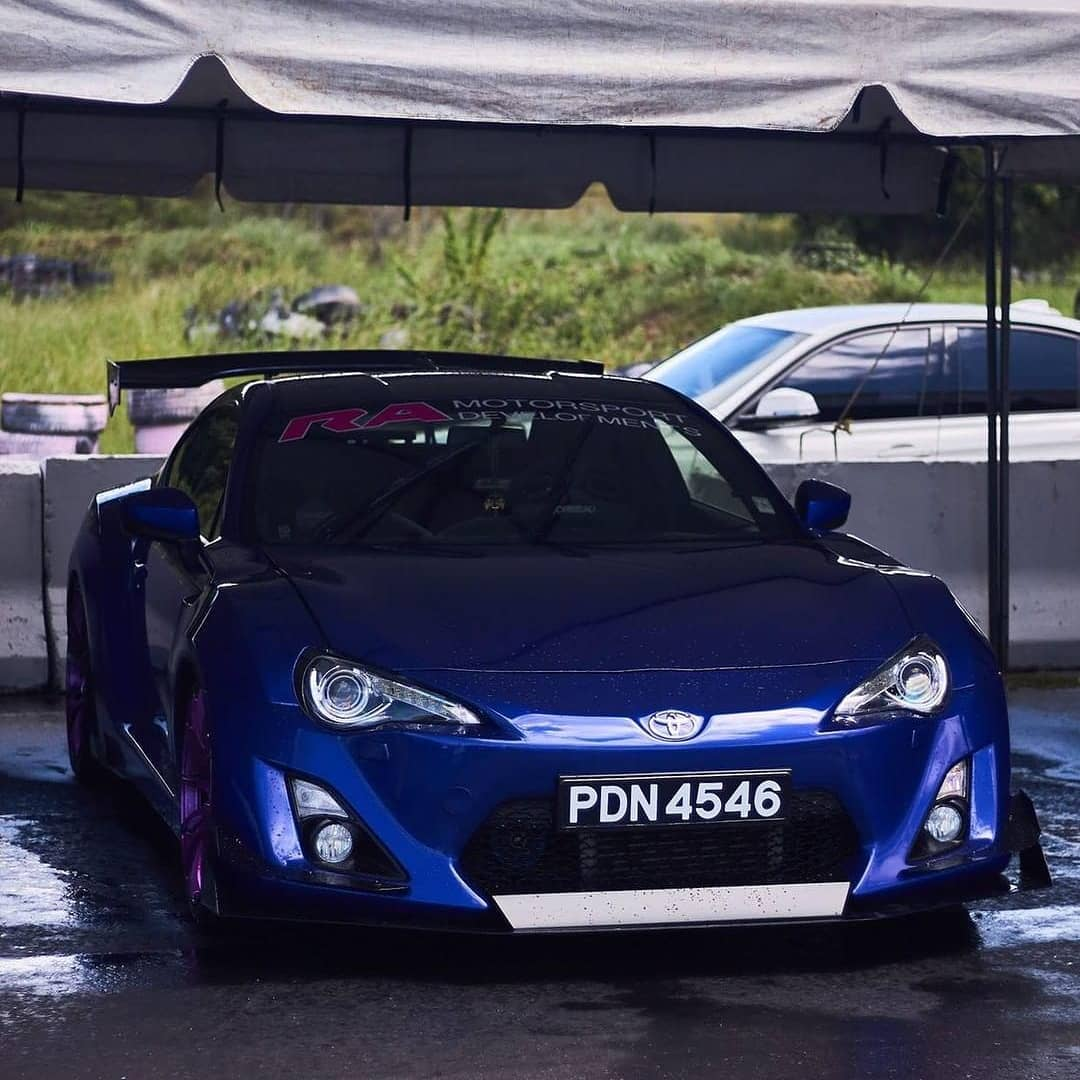License-Plate: (561, 782, 788, 826)
